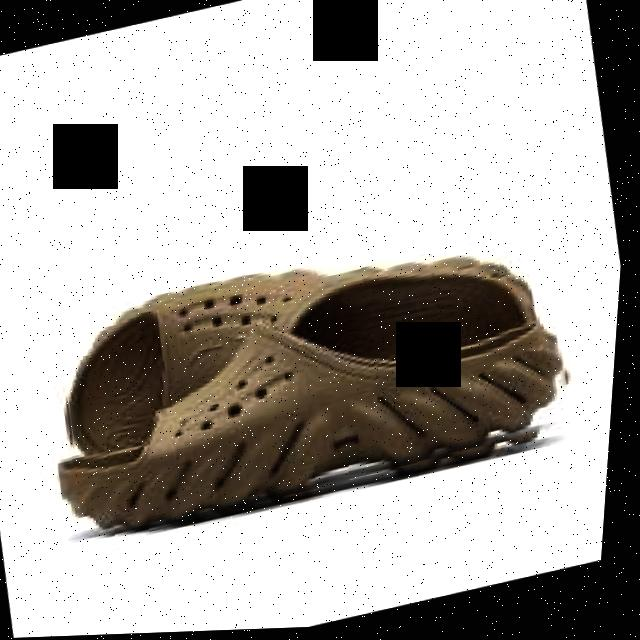shoe: (65, 325, 571, 532), (76, 264, 542, 456)
